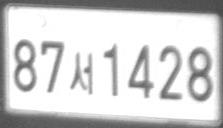1: (99, 43, 124, 96)
2: (158, 44, 183, 100)
4: (127, 45, 154, 98)
7: (40, 40, 64, 93)
8: (187, 46, 214, 102), (12, 38, 37, 92)
서: (69, 52, 93, 95)
